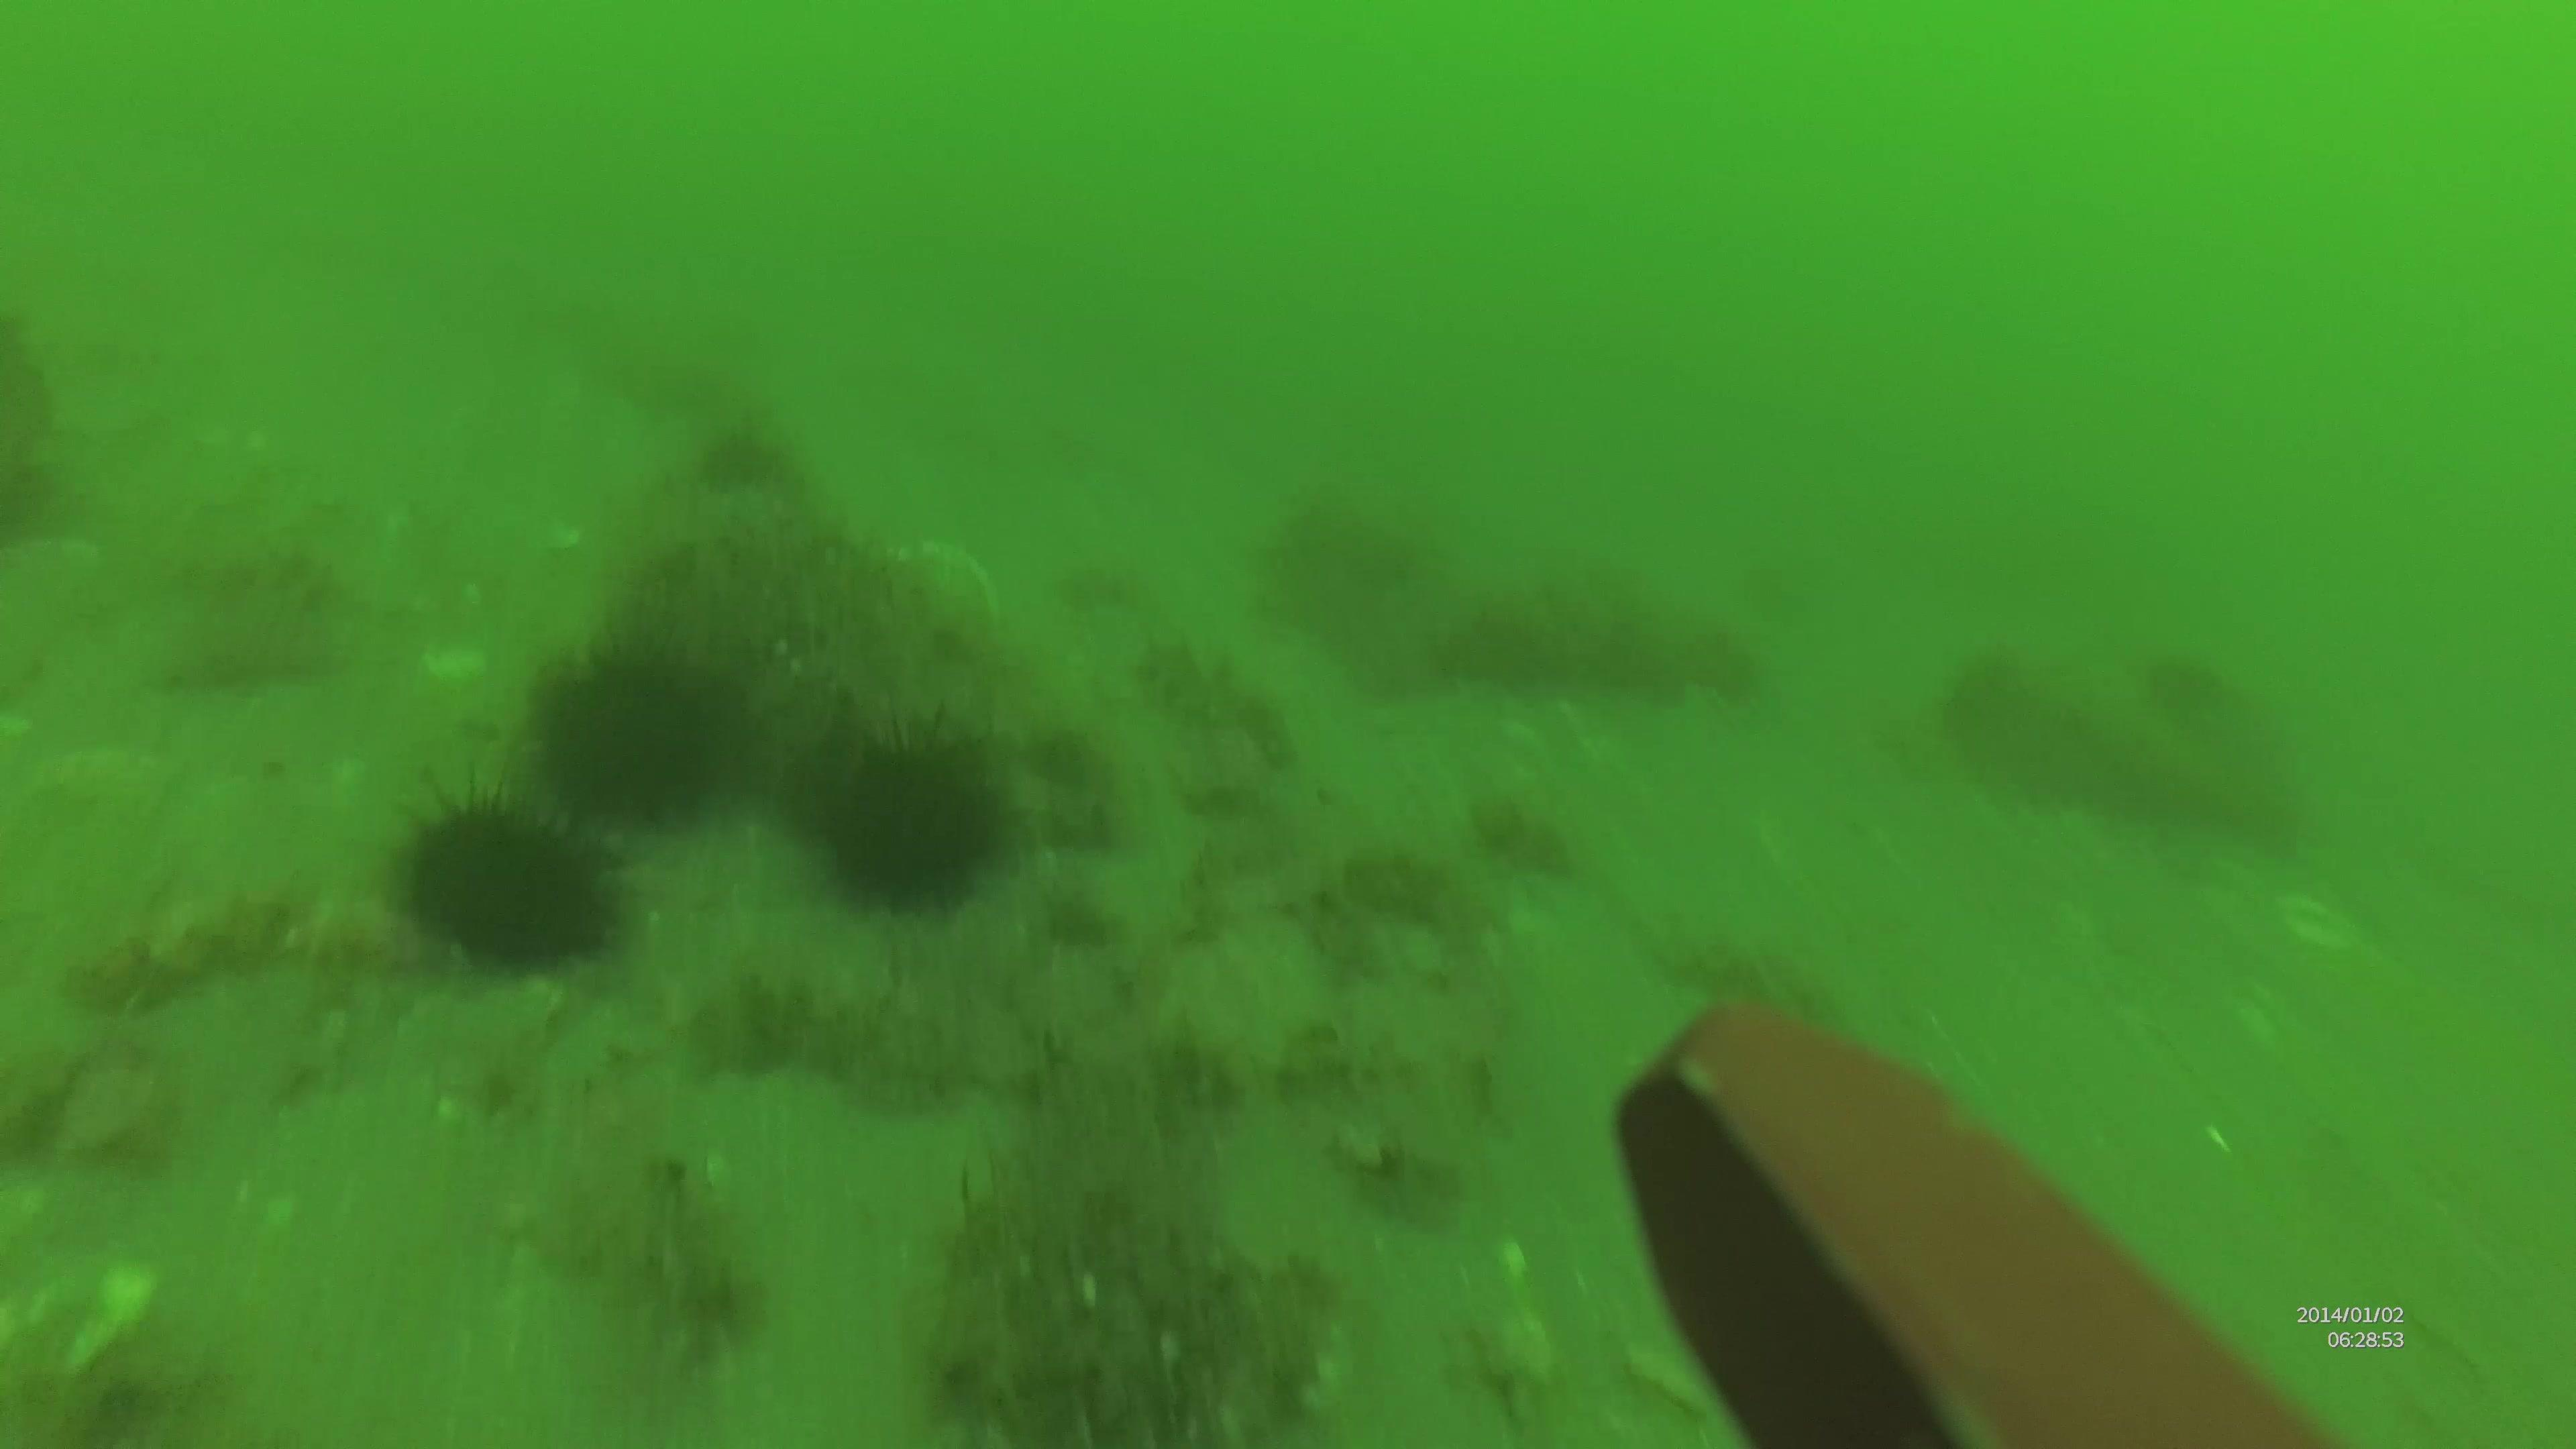echinus: (387, 771, 633, 977), (518, 614, 752, 823), (786, 709, 1016, 918)
